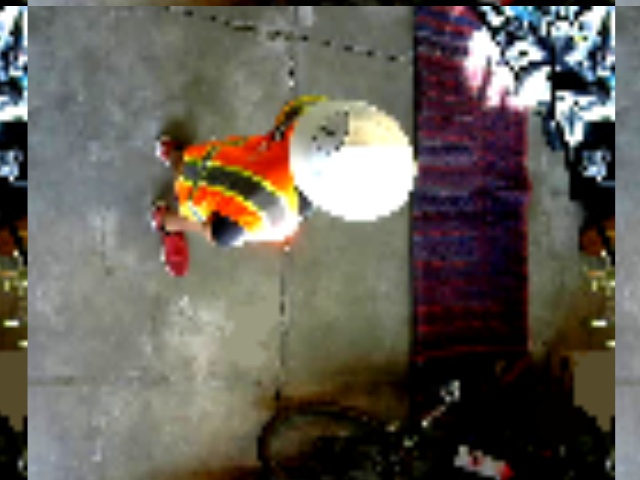two: (314, 110, 349, 155)
